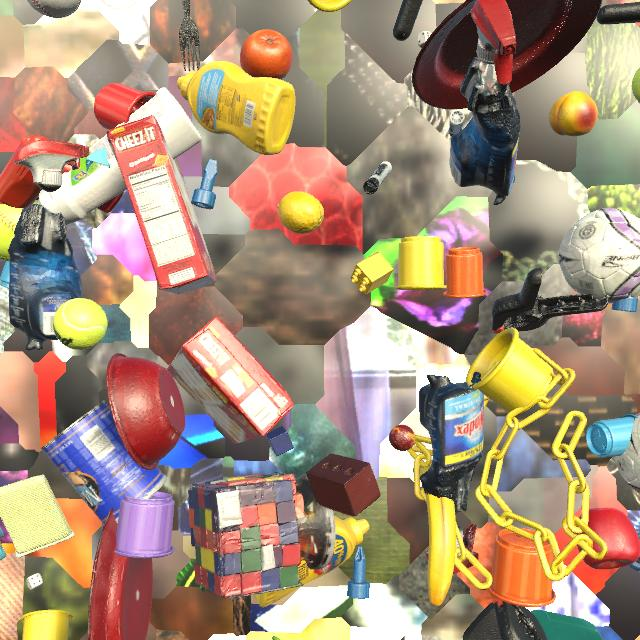ycb_002_master_chef_can: (41, 401, 167, 524)
ycb_003_cracker_box: (107, 115, 216, 294), (167, 317, 294, 444)
ycb_006_mustard_bottle: (177, 61, 295, 155), (253, 515, 370, 608)
ycb_011_banana: (413, 465, 456, 606)
ycb_013_apple: (576, 508, 640, 570)
ycb_014_lemon: (278, 191, 324, 234)
ycb_015_peach: (549, 91, 598, 136)
ycb_017_orange: (240, 29, 293, 80)
